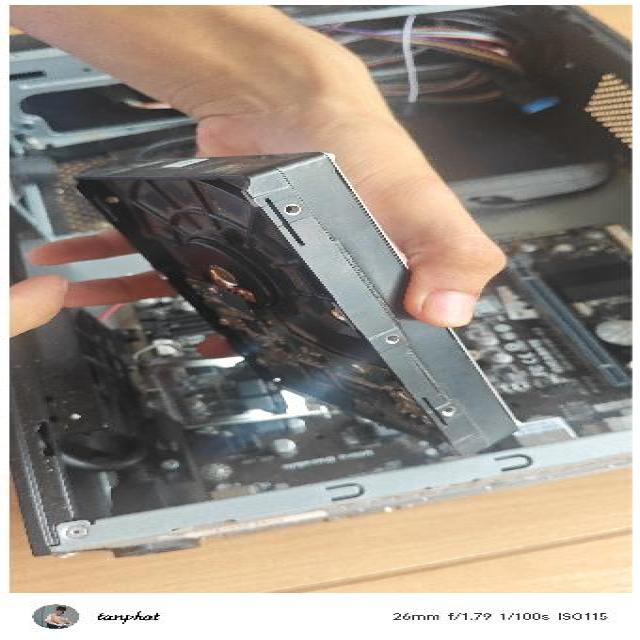DISK: (70, 148, 523, 460)
